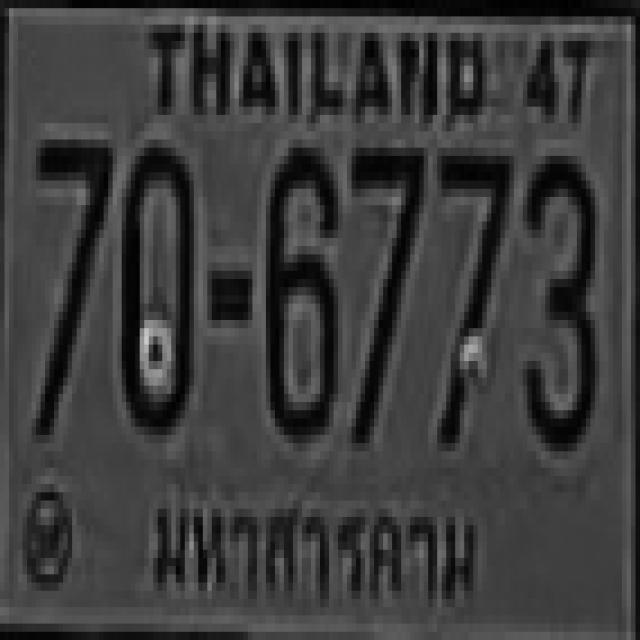0: (117, 140, 189, 426)
3: (518, 148, 590, 443)
6: (262, 139, 334, 435)
7: (32, 131, 108, 435), (349, 144, 422, 439), (437, 148, 509, 443)
MahaSarakham: (144, 480, 495, 622)
